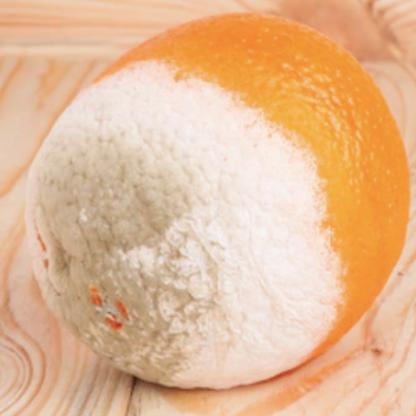rotten: (24, 15, 409, 389)
